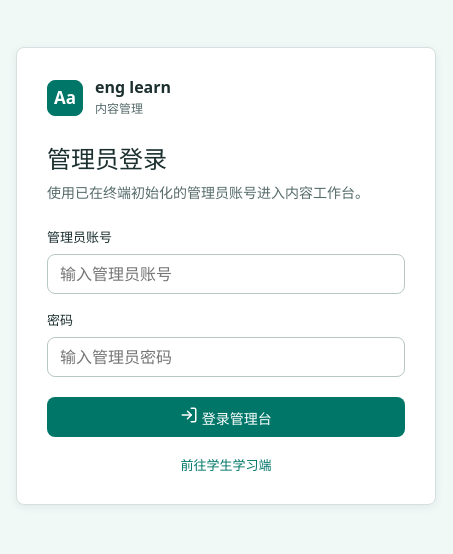
it: AdminLoginPage › keeps the account, clears the password, and restores password focus after invalid credentials
Type "admin@example.com" into the field named "username" at x=226, y=274, box [47,254,405,294]
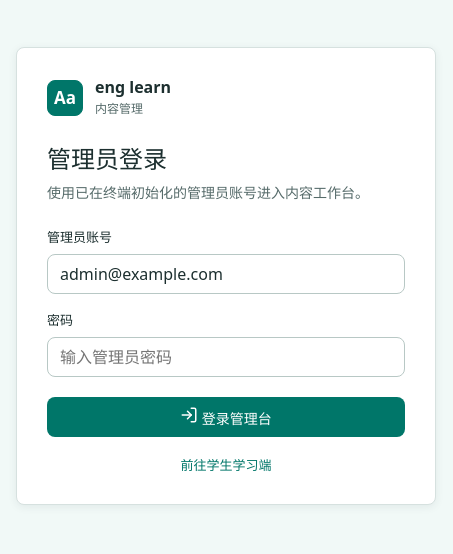
Type "not-a-real-password" into the password field named "password" at x=226, y=357, box [47,337,405,377]
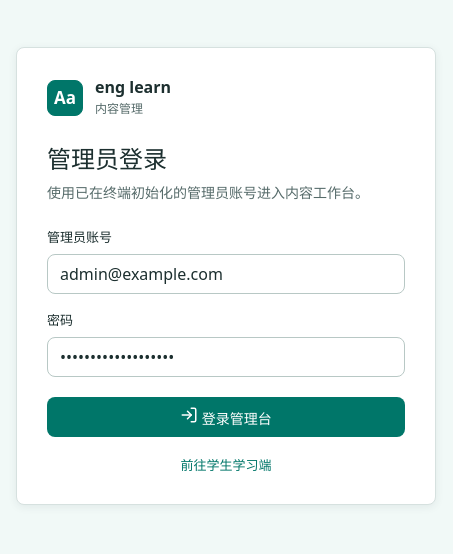
Submit the form, box [47,227,405,437]
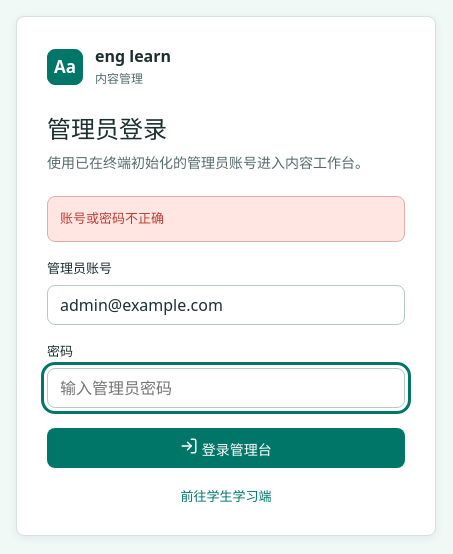
Result: the password field named "password" is empty at [47,368,405,408]
Result: the message "账号或密码不正确" is shown at [47,196,405,242]
